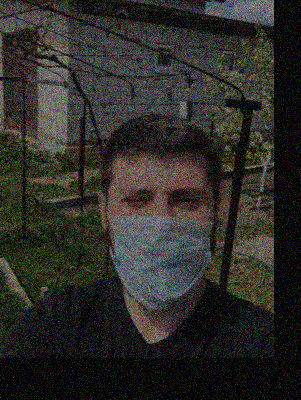with_mask: (106, 168, 217, 310)
